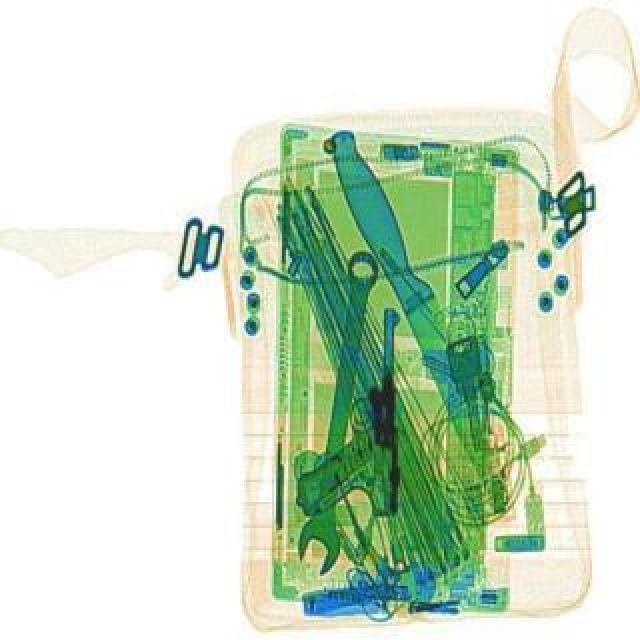gun: (296, 306, 404, 514)
knife: (324, 122, 518, 486)
scissors: (298, 246, 388, 574)
